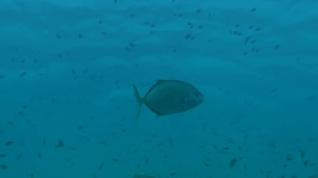Carangidae -Jacks-: (125, 68, 199, 120)
